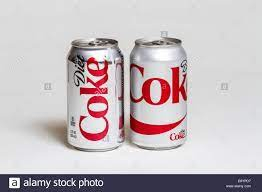can: (127, 33, 190, 152), (64, 35, 125, 153)
